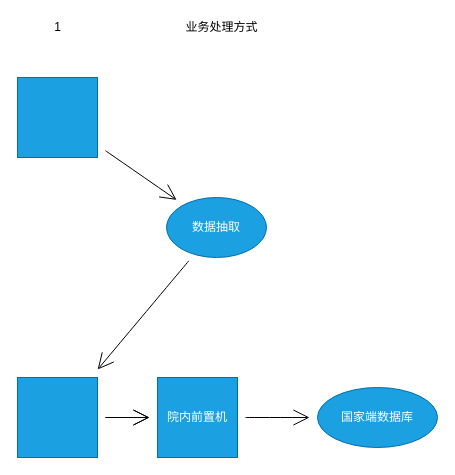
The diagram is 455 pixels wide and 475 high, and some of its shapes have lost their labels. Each missing label, with the centre of its shape:
业务系统: point 57,117
乳腺癌数据采集服务器: point 57,417
